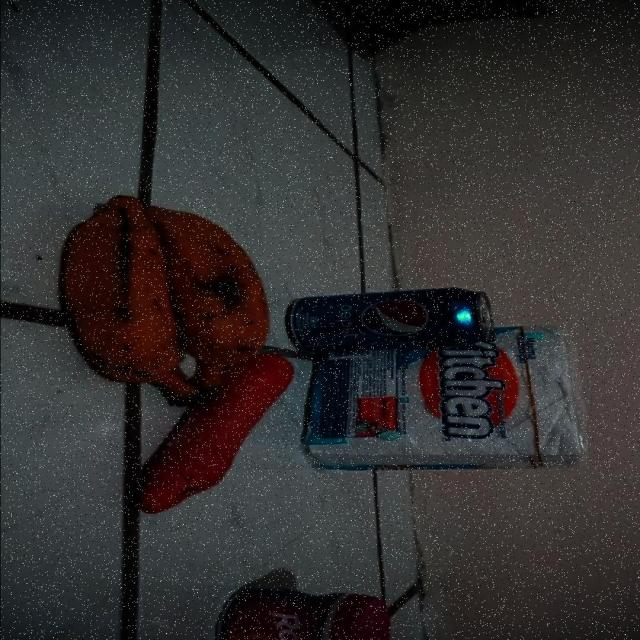Banana: (51, 193, 271, 397)
Carrot: (108, 403, 284, 516)
Napkin: (302, 360, 578, 474)
SodaCan: (294, 286, 493, 353)
Yeast: (213, 589, 396, 640)
